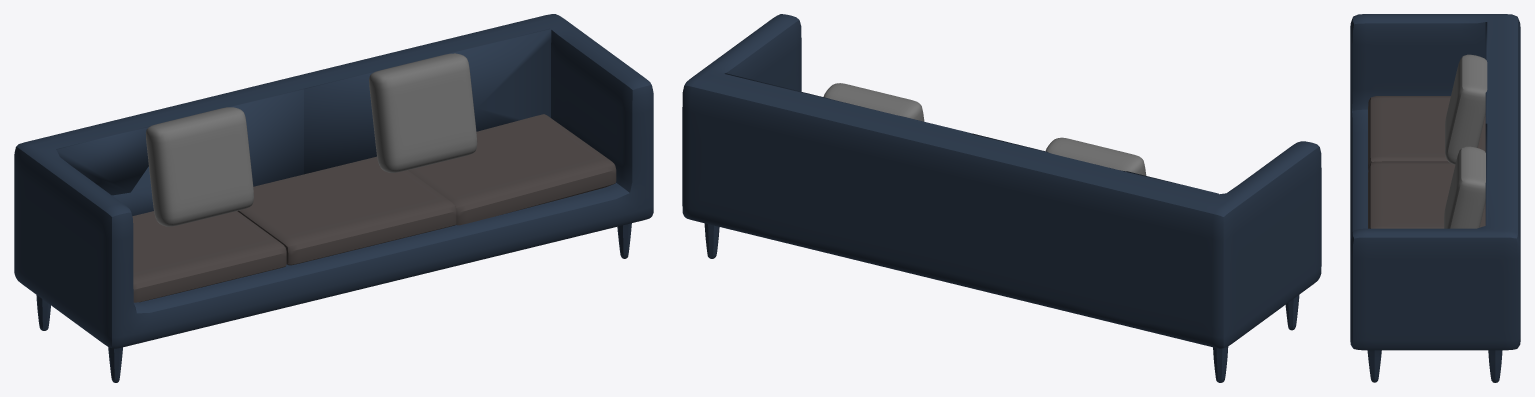
The model's file is Sofa.fbx.
3 renders of one model, left to right at view 1: azimuth 30°, elevation 25°; view 2: azimuth 150°, elevation 25°; view 3: azimuth 270°, elevation 25°, orthographic. The views are drawn at different scales.
Parts seen in each view (by area): view 1: Szofa, Szofa.001, Szofa.002, Cube.001, Cube.002, Szofa.003; view 2: Szofa, Cube.002, Cube.001; view 3: Szofa, Szofa.001, Szofa.003, Cube.002, Cube.001.
Boxes of the visible parts, x1=… form: Szofa: x1=14, y1=14, x2=653, y2=382; Szofa.001: x1=237, y1=156, x2=456, y2=265; Szofa.002: x1=408, y1=114, x2=616, y2=225; Cube.001: x1=369, y1=53, x2=477, y2=172; Cube.002: x1=145, y1=107, x2=253, y2=226; Szofa.003: x1=132, y1=211, x2=286, y2=302; Szofa: x1=682, y1=14, x2=1321, y2=382; Cube.002: x1=1045, y1=137, x2=1146, y2=175; Cube.001: x1=823, y1=83, x2=924, y2=121; Szofa: x1=1350, y1=14, x2=1520, y2=382; Szofa.001: x1=1368, y1=161, x2=1485, y2=228; Szofa.003: x1=1368, y1=96, x2=1485, y2=169; Cube.002: x1=1445, y1=54, x2=1487, y2=164; Cube.001: x1=1444, y1=146, x2=1485, y2=228.
Bounding box in the file's own units: 324 × 107 × 104.
